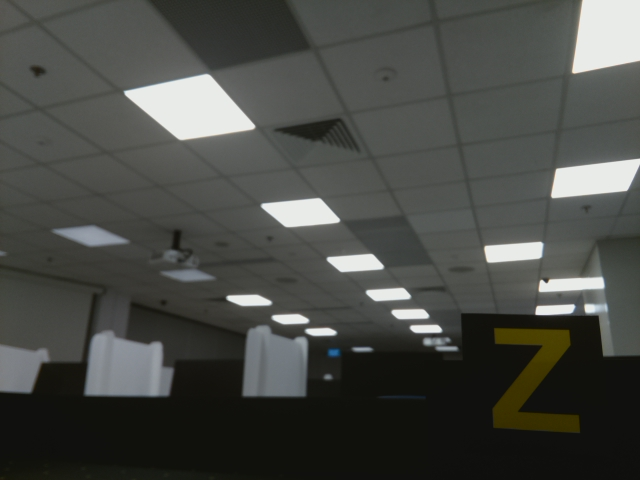z: (481, 321, 590, 439)
